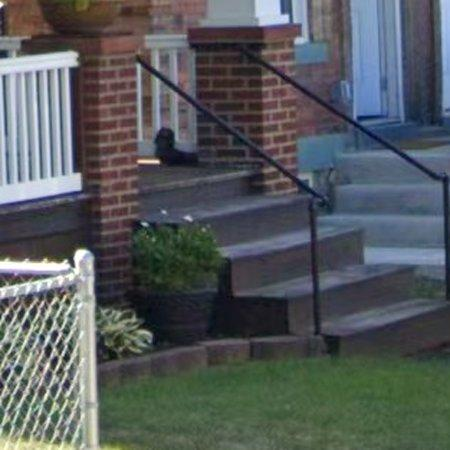stairs: (141, 168, 314, 338), (320, 217, 450, 357), (321, 150, 445, 282), (412, 146, 450, 172)
